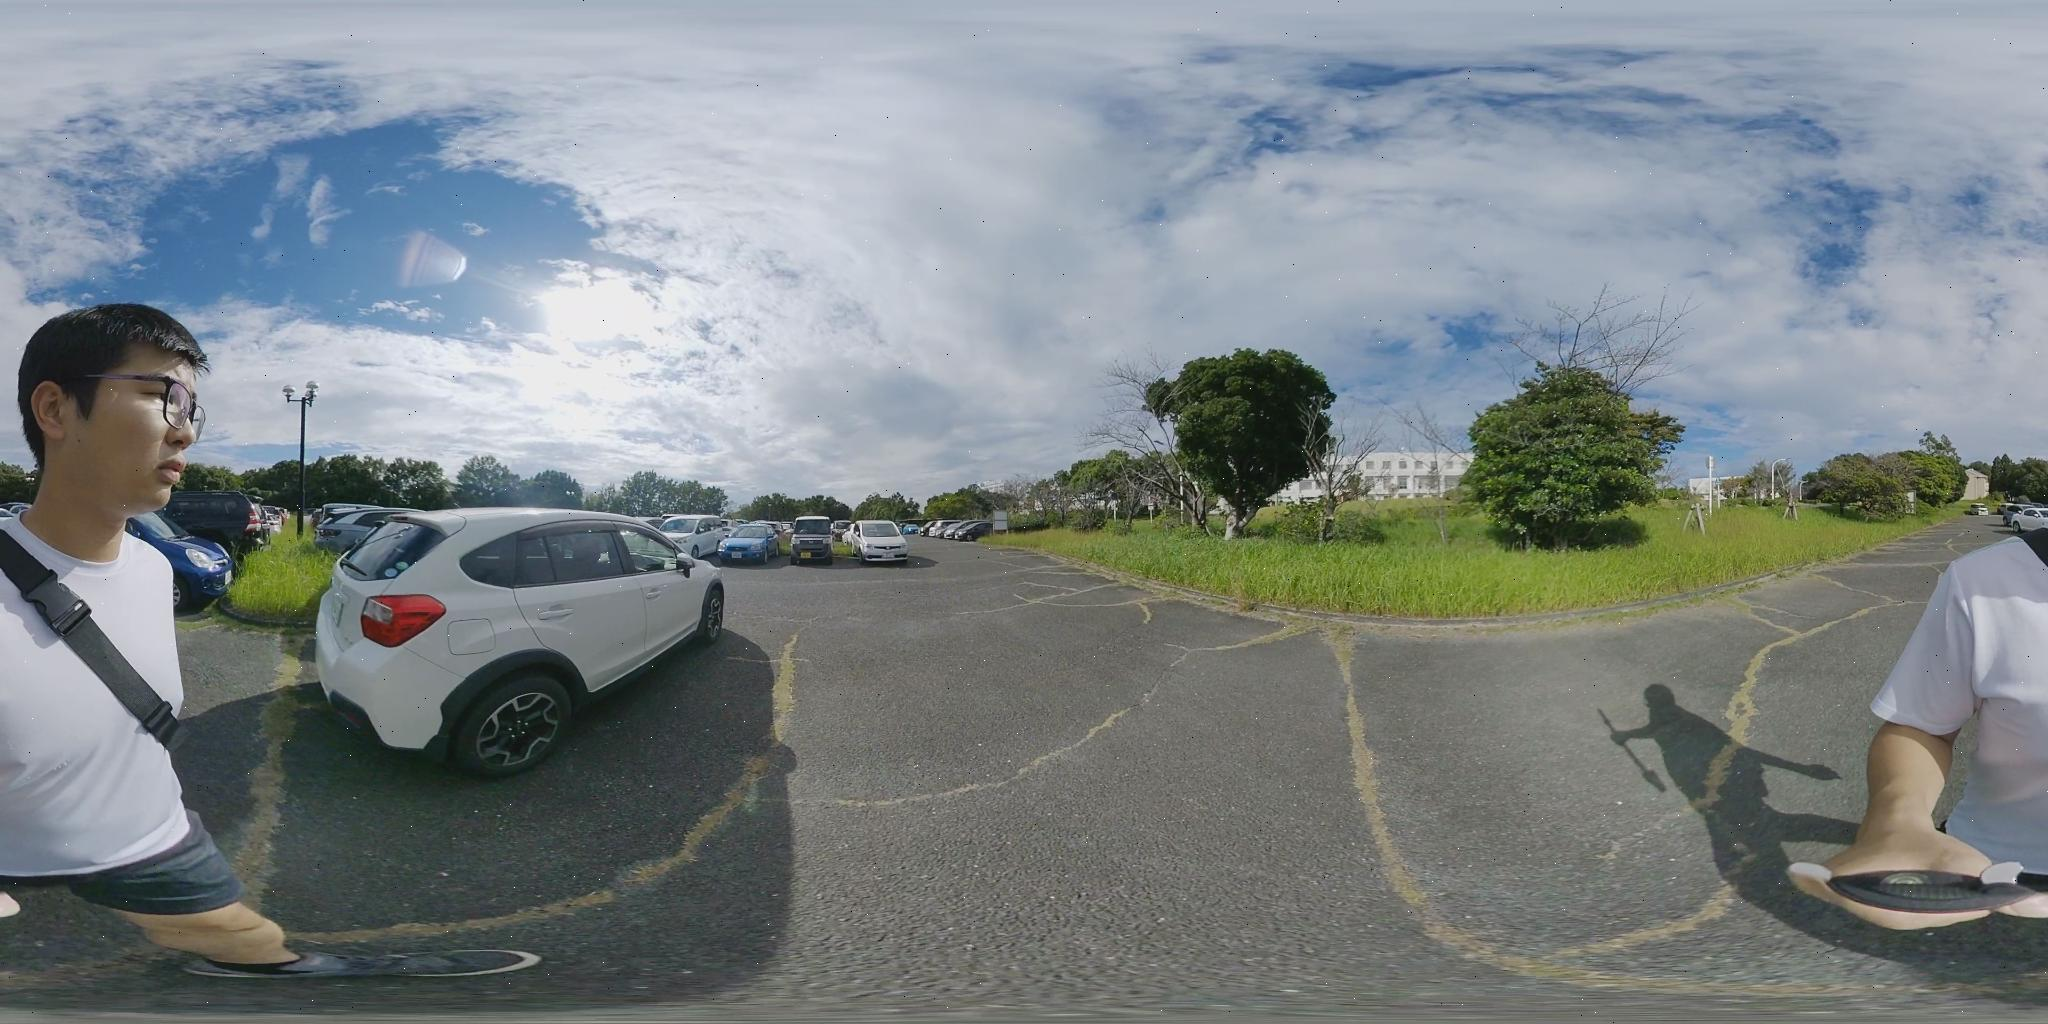car: (310, 507, 748, 773), (155, 488, 269, 547), (317, 505, 406, 550), (696, 520, 784, 564), (846, 521, 916, 563), (794, 516, 832, 563), (929, 521, 991, 542)
